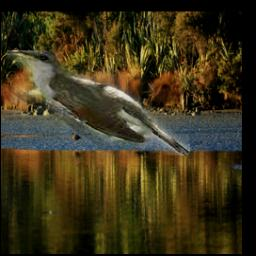Cuckoo: (8, 51, 191, 156)
